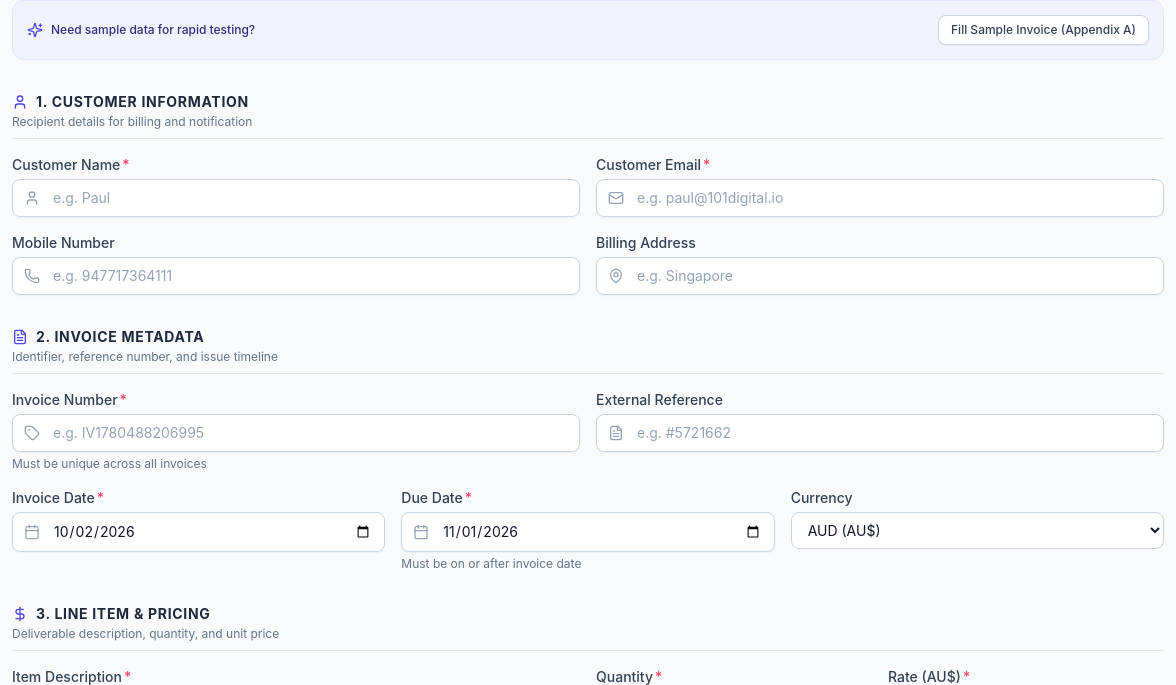
Test case: InvoiceForm Component › populates fields when sample data button is clicked
Click the button "Fill Sample Invoice (Appendix A)" at (1044,30), box [938, 15, 1149, 45]
(page scrolled)
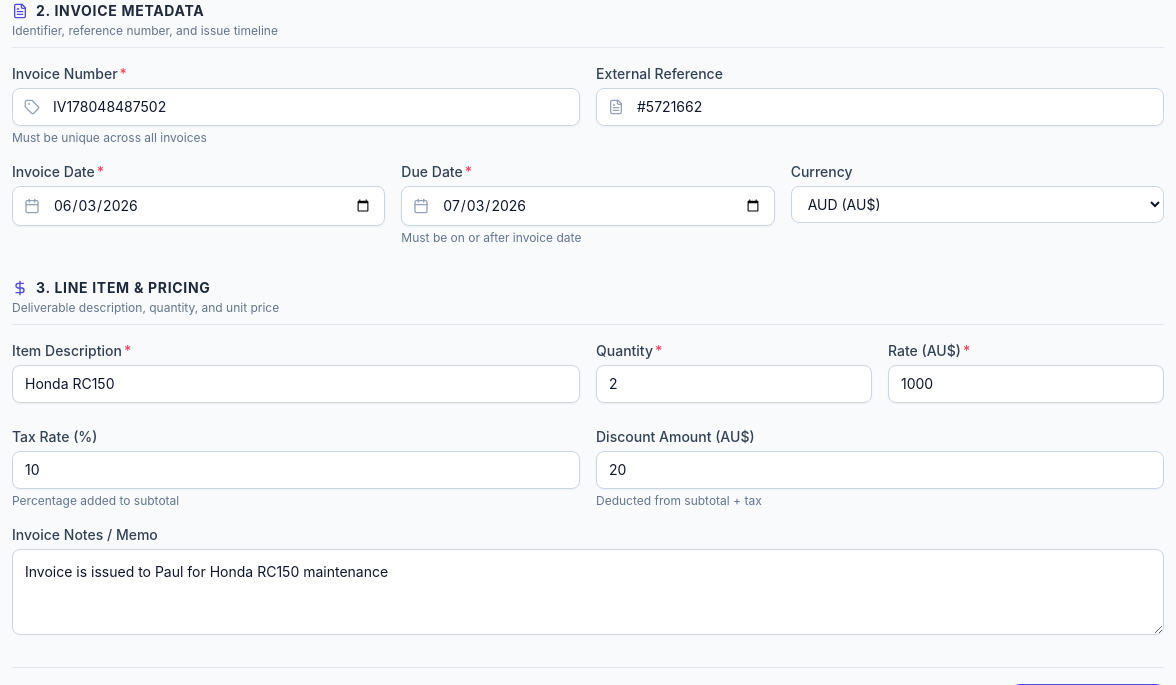
Result: the field labelled "Item Description*" holds "Honda RC150" at [12, 365, 580, 403]
Result: the number field labelled "Quantity*" holds "2" at [596, 365, 872, 403]
